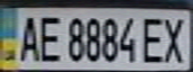4: (118, 14, 142, 63)
8: (81, 14, 103, 63), (63, 12, 84, 63), (100, 14, 121, 63)
A: (12, 11, 42, 63)
E: (139, 12, 169, 64), (36, 12, 63, 63)
X: (160, 12, 193, 64)
